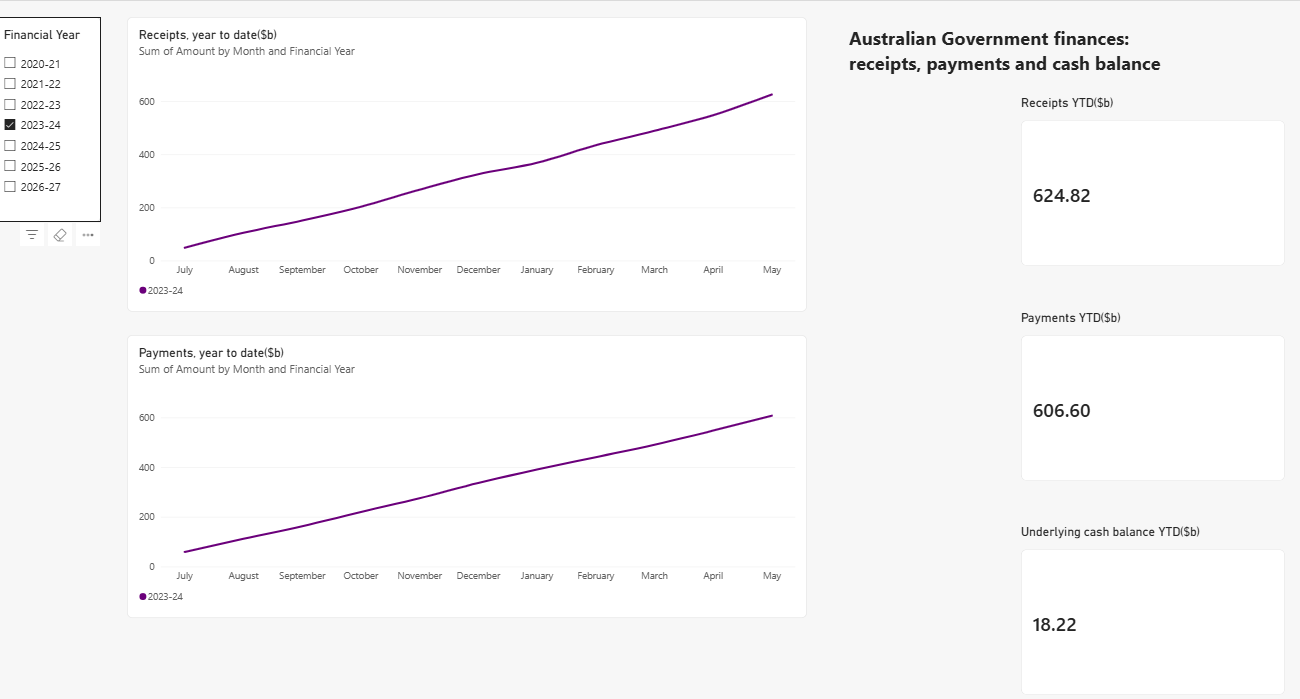

The page's visual inventory and layout, read from the dashboard file:
{"tool":"powerbi","page":{"name":"Overview","canvas":[1920,1080],"ordinal":0},"visuals":[{"type":"lineChart","title":"Receipts, year to date($b)","fields":{"Category":["Aggregates.Month"],"Series":["Aggregates.Financial Year"],"Y":["Sum(Aggregates.Amount)"]},"box":[197,23.3,992.1,430.4],"z":0},{"type":"listSlicer","fields":{"Values":["Aggregates.Financial Year"]},"box":[0,23.3,159,299.1],"z":1},{"type":"lineChart","title":"Payments, year to date($b)","fields":{"Category":["Aggregates.Month"],"Series":["Aggregates.Financial Year"],"Y":["Sum(Aggregates.Amount)"]},"box":[197,487.3,992.1,412.9],"z":2},{"type":"cardVisual","title":"Receipts YTD($b)","fields":{"Data":["Max(Aggregates.Amount)"]},"box":[1501.3,137.1,385.2,249.5],"z":3},{"type":"cardVisual","title":"Payments YTD($b)","fields":{"Data":["Max(Aggregates.Amount)"]},"box":[1501.3,450.1,385.2,249.5],"z":4},{"type":"cardVisual","title":"Underlying cash balance YTD($b)","fields":{"Data":["Aggregates.Latest YTD"]},"box":[1501.3,763,385.2,249.5],"z":5},{"type":"textbox","box":[1250.3,35,462.5,87.5],"z":6}]}

Visuals, with their boxes on the page's 1920x1080 design canvas (x1, y1, x2, y2). These are canvas units, not pixel positions in the 1300x699 screenshot, which may show the page scaled, cropped or inside an application window:
"Receipts, year to date($b)" lineChart: left=197, top=23, right=1189, bottom=454
listSlicer - Aggregates.Financial Year: left=0, top=23, right=159, bottom=322
"Payments, year to date($b)" lineChart: left=197, top=487, right=1189, bottom=900
"Receipts YTD($b)" cardVisual: left=1501, top=137, right=1886, bottom=387
"Payments YTD($b)" cardVisual: left=1501, top=450, right=1886, bottom=700
"Underlying cash balance YTD($b)" cardVisual: left=1501, top=763, right=1886, bottom=1012
textbox: left=1250, top=35, right=1713, bottom=122
